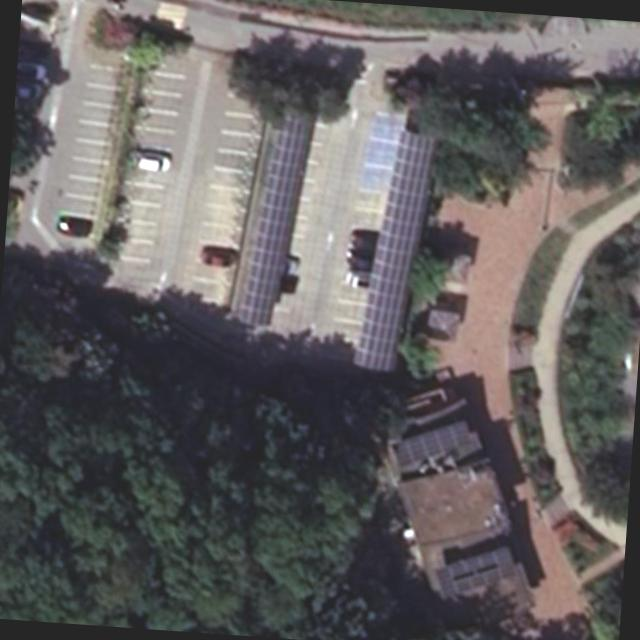solar: (346, 126, 438, 374), (230, 103, 322, 329), (432, 540, 520, 608), (393, 414, 472, 472)
